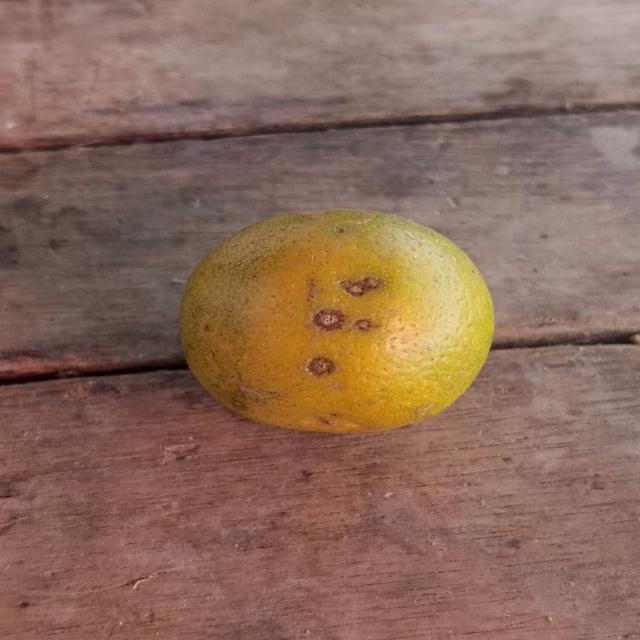black spot: (178, 208, 494, 430)
